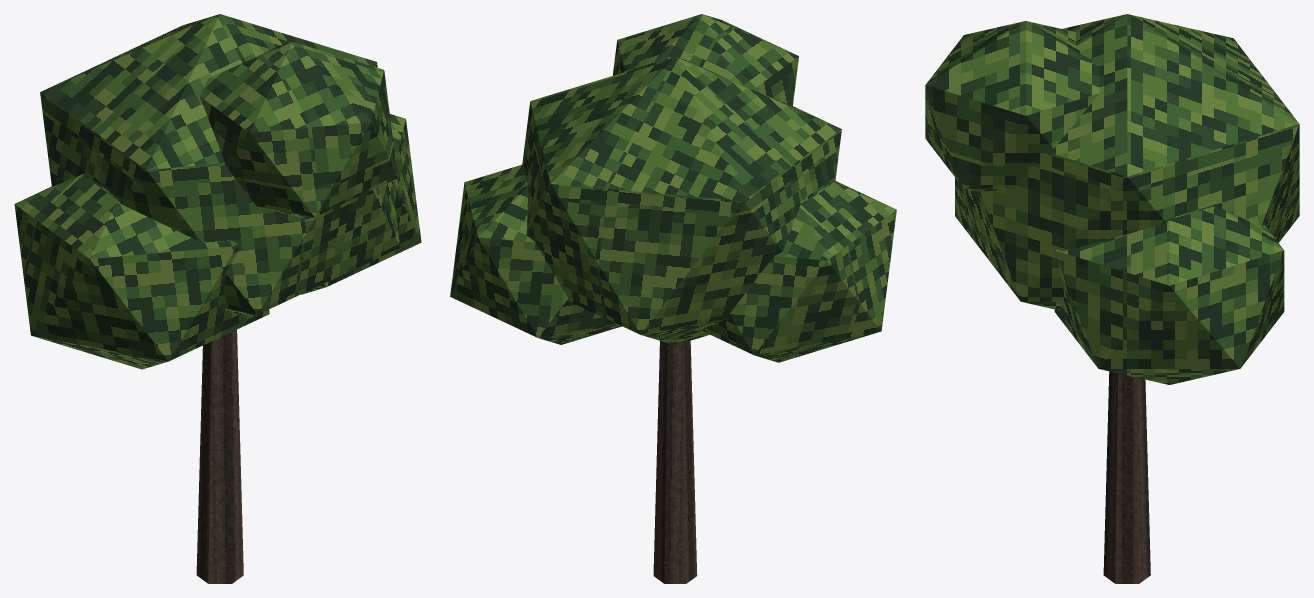
File: env_tree_a.glb
3 renders of one model, left to right at view 1: azimuth 30°, elevation 25°; view 2: azimuth 150°, elevation 25°; view 3: azimuth 270°, elevation 25°, orthographic. The views are drawn at different scales.
Parts seen in each view (by area): view 1: env_tree_a; view 2: env_tree_a; view 3: env_tree_a.
Boxes of the visible parts, x1,y1,x2,y2 form: env_tree_a: (14, 14, 421, 583); env_tree_a: (450, 14, 896, 583); env_tree_a: (925, 14, 1299, 583).
Size of the model in its own units: 5.65 by 7.39 by 4.43.
2 materials, 2 textured.
